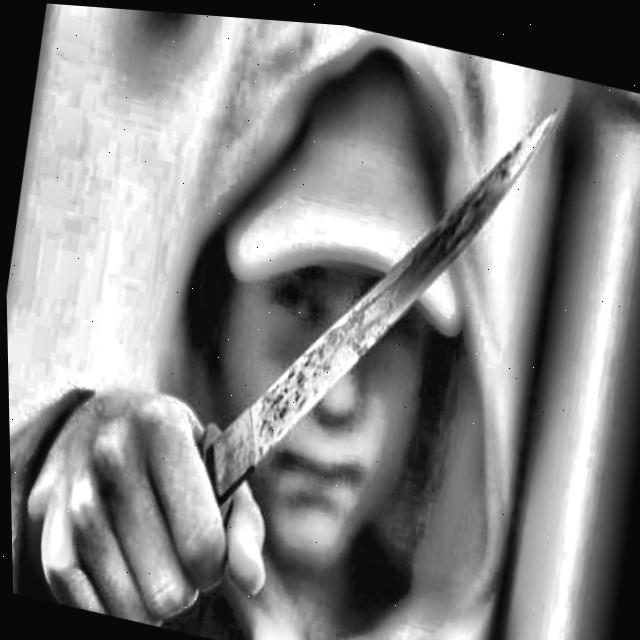pisau: (187, 105, 568, 530)
